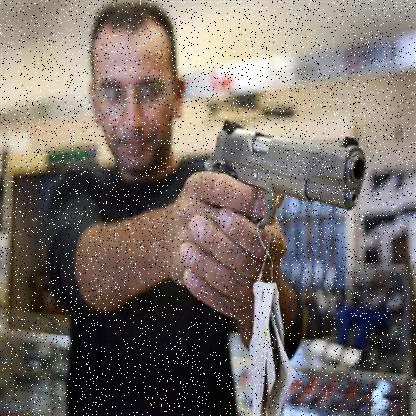pistol: (199, 118, 366, 230)
